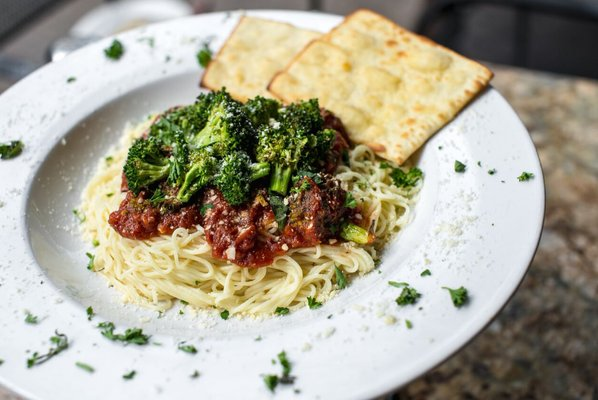curry: (121, 90, 338, 226), (122, 90, 263, 210)
